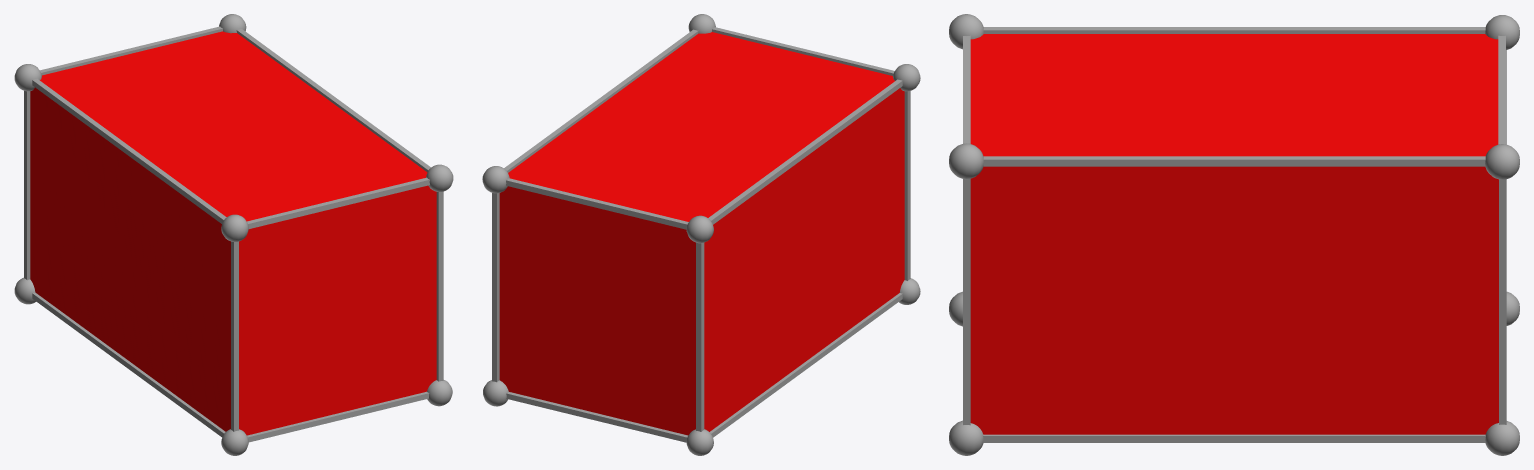
The model's file is red.fbx.
3 renders of one model, left to right at view 1: azimuth 30°, elevation 25°; view 2: azimuth 150°, elevation 25°; view 3: azimuth 270°, elevation 25°, orthographic. The views are drawn at different scales.
Parts seen in each view (by area): view 1: pCube17; view 2: pCube17; view 3: pCube17.
Part boxes in pixels (x1,y1,x2,y2): pCube17: [14, 14, 453, 455]; pCube17: [482, 14, 920, 455]; pCube17: [949, 14, 1519, 455].
Bounding box in the file's own units: 191 × 191 × 319.
